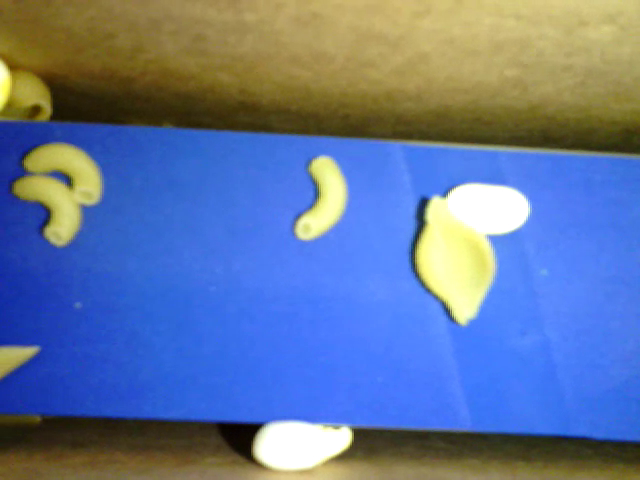elbow: (13, 175, 85, 249), (24, 142, 103, 207), (294, 154, 351, 242)
penne: (1, 346, 42, 379)
shell: (409, 190, 499, 329), (2, 67, 56, 125)
